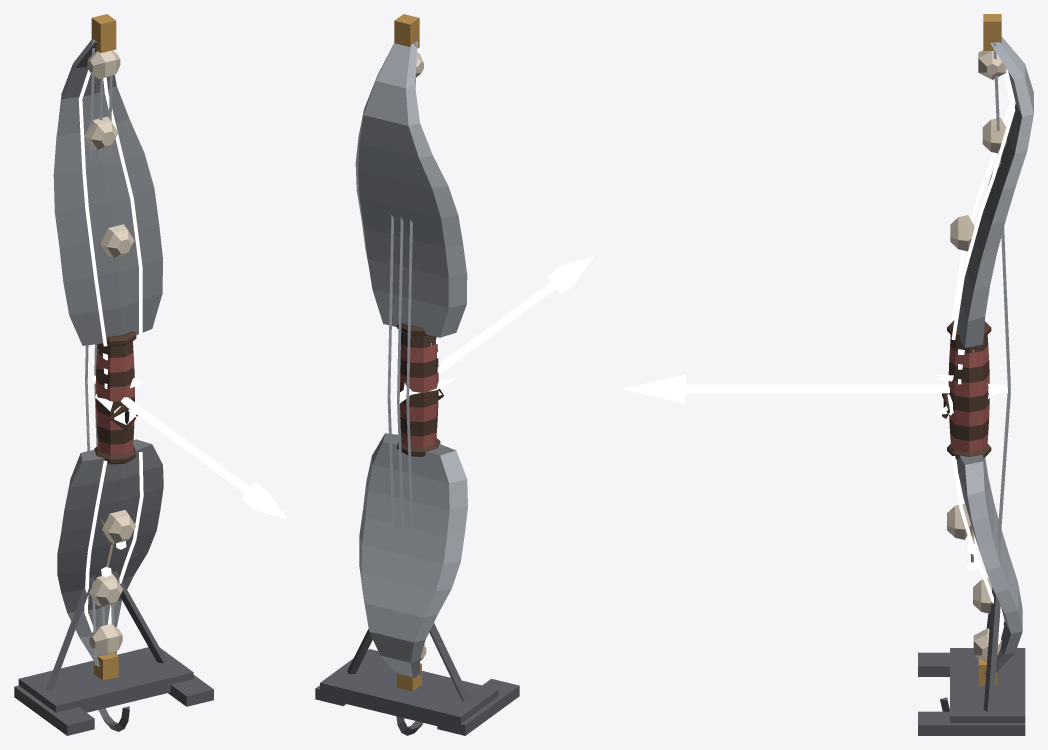
The model's file is bow-wire-song.glb.
3 renders of one model, left to right at view 1: azimuth 30°, elevation 25°; view 2: azimuth 150°, elevation 25°; view 3: azimuth 270°, elevation 25°, orthographic. The views are drawn at different scales.
Visible parts, largest first — view 1: bow-wire-song, pulse_vein, pulse_arrow, string; view 2: bow-wire-song, string, pulse_arrow; view 3: bow-wire-song, pulse_arrow, pulse_vein, string.
Boxes of the visible parts, x1,y1,x2,y2 form: bow-wire-song: (14, 14, 213, 735); pulse_vein: (78, 70, 143, 632); pulse_arrow: (92, 375, 286, 518); string: (85, 40, 115, 665); bow-wire-song: (315, 14, 519, 735); string: (387, 42, 418, 677); pulse_arrow: (395, 256, 593, 403); bow-wire-song: (918, 14, 1033, 735); pulse_arrow: (622, 374, 1007, 415); pulse_vein: (951, 69, 1015, 644); string: (993, 42, 1010, 547).
Size of the model in its own units: 0.32 by 1.47 by 0.7658.
